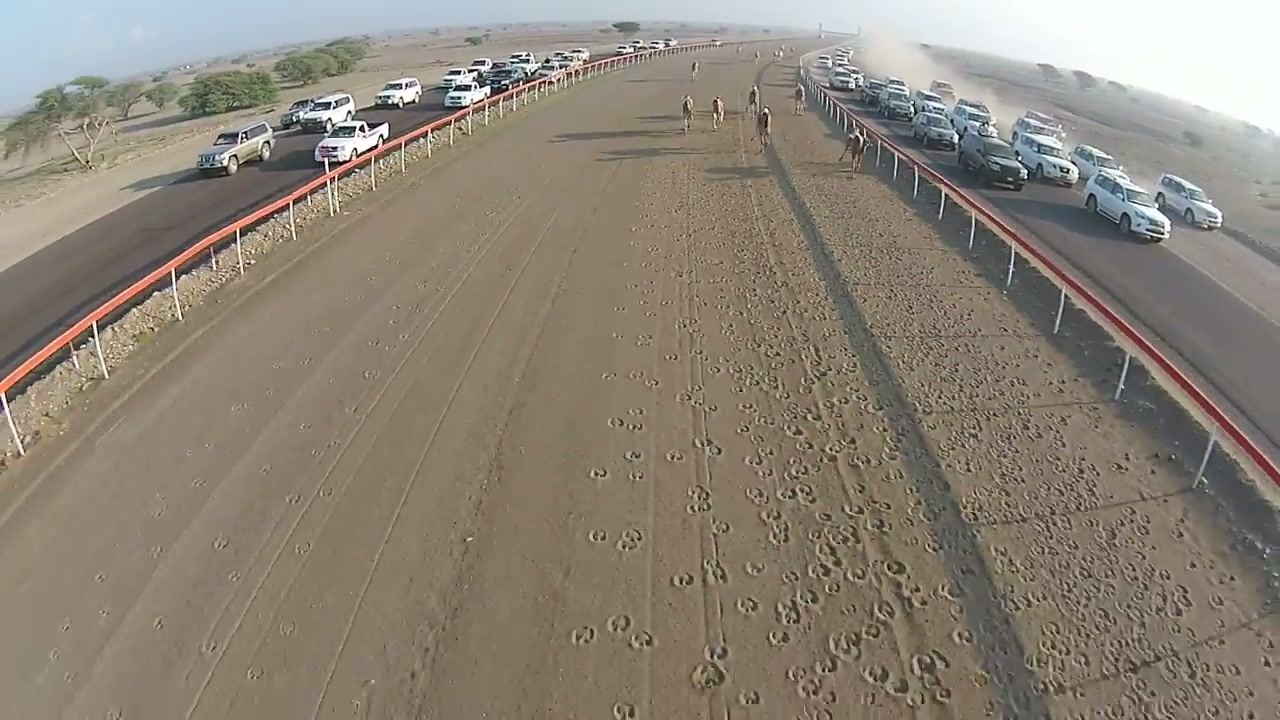animal_foot_print: (658, 189, 1095, 719), (837, 244, 1203, 671), (718, 398, 786, 508), (912, 649, 950, 677), (691, 661, 726, 690), (828, 631, 861, 660), (775, 598, 803, 626), (869, 601, 898, 627), (686, 485, 711, 514), (795, 675, 824, 699), (703, 558, 728, 584), (863, 664, 892, 685), (616, 529, 643, 551), (794, 587, 821, 607), (693, 438, 722, 456), (606, 614, 632, 634), (813, 656, 839, 675), (629, 631, 654, 650), (570, 626, 595, 645), (735, 596, 759, 615), (704, 645, 729, 663), (797, 707, 834, 719), (745, 486, 768, 505), (884, 559, 907, 578), (612, 702, 637, 719), (845, 566, 869, 583), (931, 685, 952, 704), (738, 690, 761, 707), (767, 629, 790, 646), (744, 561, 767, 577), (687, 485, 709, 501), (671, 573, 694, 588), (622, 528, 643, 544), (199, 638, 220, 654), (686, 500, 710, 514), (151, 495, 165, 518), (588, 467, 610, 481), (814, 510, 834, 525), (784, 424, 805, 438), (744, 453, 765, 467), (823, 580, 842, 595), (781, 569, 800, 584), (587, 529, 607, 543), (293, 541, 311, 556), (278, 621, 296, 636), (711, 519, 730, 533), (105, 706, 125, 719), (246, 666, 264, 680), (624, 450, 643, 462), (149, 545, 164, 560), (635, 334, 653, 346), (310, 446, 329, 457), (212, 536, 228, 549), (362, 368, 379, 380), (628, 469, 645, 481), (285, 493, 302, 505), (227, 570, 242, 583), (48, 647, 61, 662), (607, 417, 626, 427), (666, 451, 683, 462), (319, 485, 333, 498), (59, 617, 72, 631), (626, 422, 644, 432), (736, 423, 751, 435), (627, 370, 645, 380), (190, 477, 206, 488), (64, 671, 78, 683), (152, 616, 164, 629), (664, 353, 679, 361), (601, 372, 616, 380), (614, 306, 627, 313), (636, 373, 642, 377)
